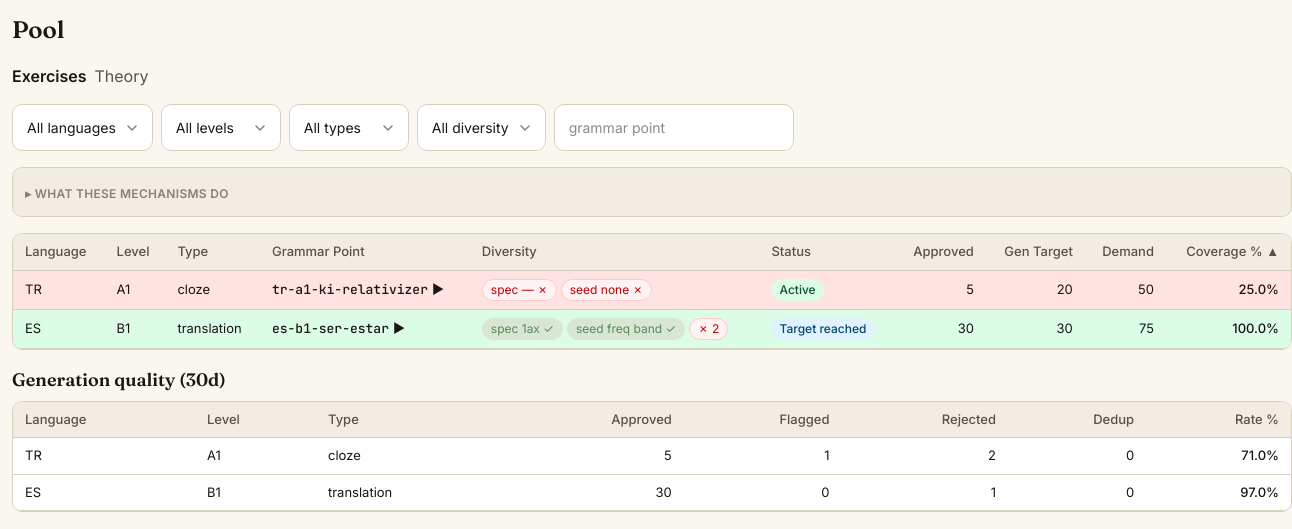
Test case: PoolPage — diversity mechanisms › narrows to the rows with no mechanism at all
Select "no mechanism at all" in the dropdown named "diversity" at (481, 128), box [417, 104, 546, 151]
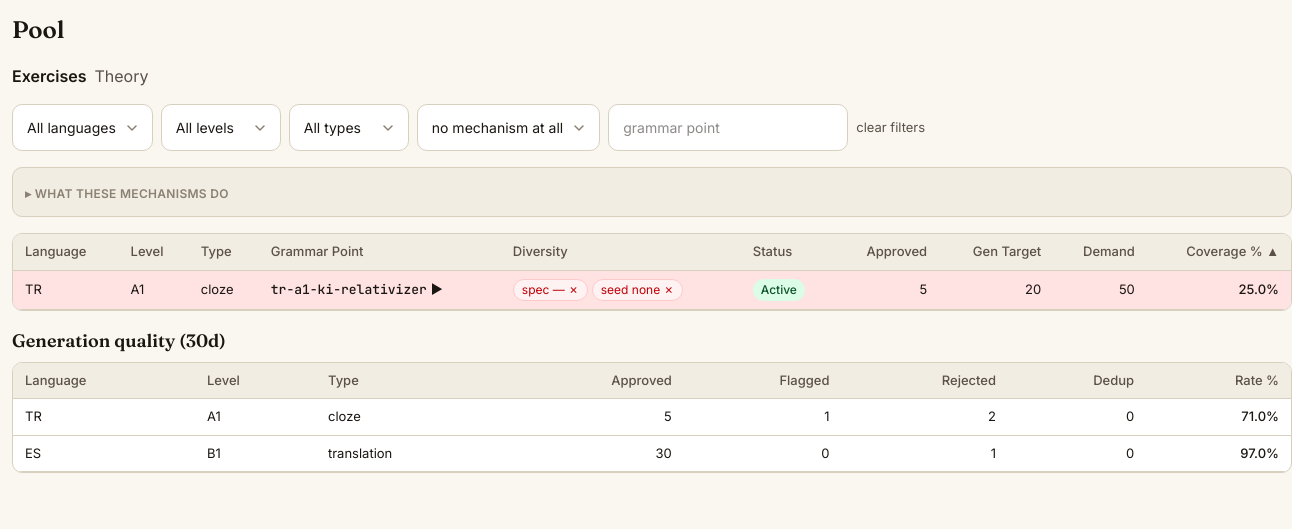
Expected: the button "tr-a1-ki-relativizer ▶" is shown, [271, 280, 443, 299]
Result: the button "es-b1-ser-estar" is gone
